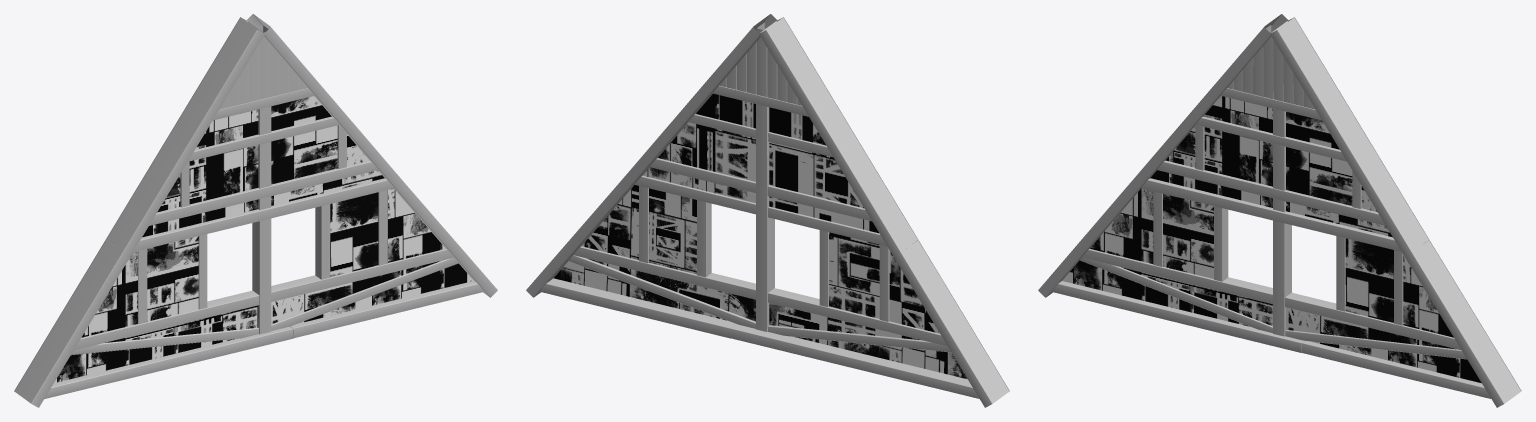
Rendered from SM_roof01.fbx.
3 views of the same model, side by side, from view 1: azimuth 30°, elevation 25°; view 2: azimuth 150°, elevation 25°; view 3: azimuth 330°, elevation 25° (orthographic).
Parts seen in each view (by area): view 1: SM_roof01_LOD0; view 2: SM_roof01_LOD0; view 3: SM_roof01_LOD0.
Boxes of the visible parts, x1,y1,x2,y2 form: SM_roof01_LOD0: [14, 14, 497, 407]; SM_roof01_LOD0: [526, 14, 1009, 407]; SM_roof01_LOD0: [1038, 14, 1521, 407].
Size of the model in its own units: 846 by 56 by 562.
